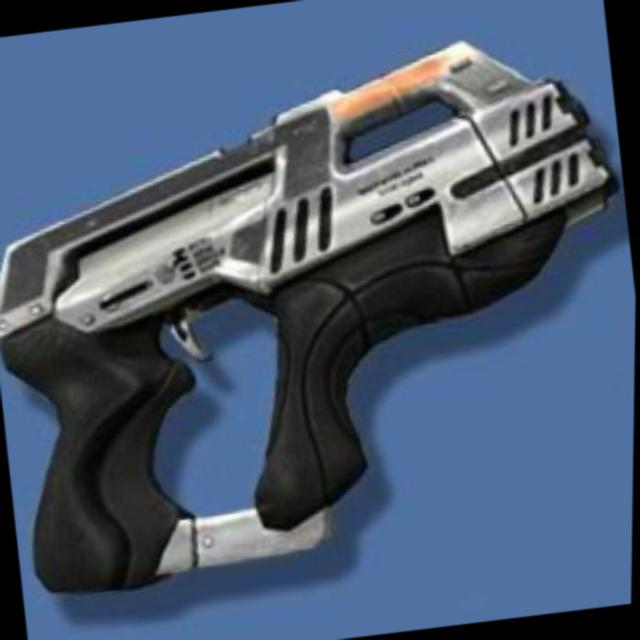weapon: (0, 18, 640, 601)
